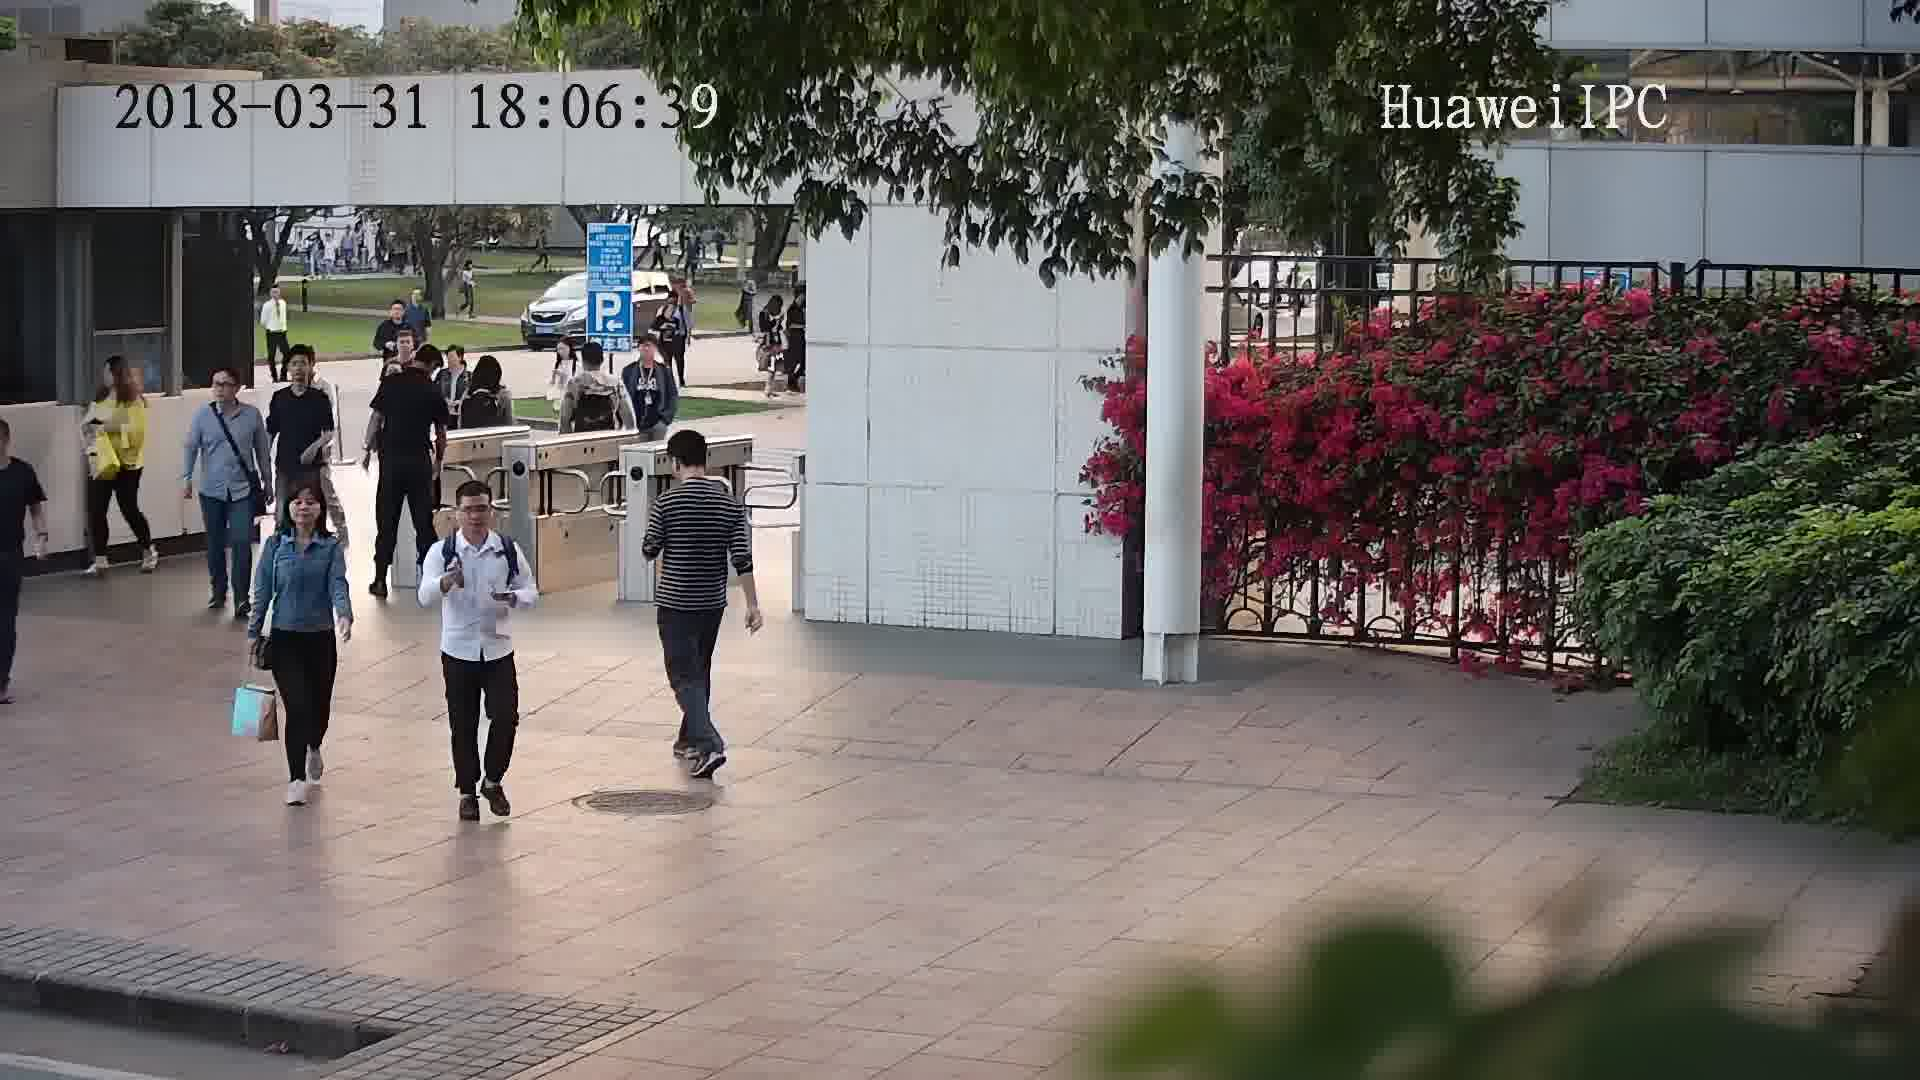face: (453, 495, 497, 539), (289, 489, 327, 527)
person: (430, 477, 520, 570), (652, 425, 739, 518), (263, 476, 347, 558), (194, 363, 270, 434), (274, 342, 330, 410), (86, 355, 152, 408), (383, 344, 441, 402), (1, 414, 37, 488), (626, 332, 676, 381), (464, 355, 511, 403), (571, 339, 619, 386), (382, 328, 426, 369), (374, 295, 414, 339), (434, 339, 474, 382), (650, 298, 683, 333), (553, 336, 581, 375), (403, 283, 433, 317), (263, 278, 290, 309), (656, 287, 689, 313), (763, 291, 787, 319), (788, 282, 809, 313)
